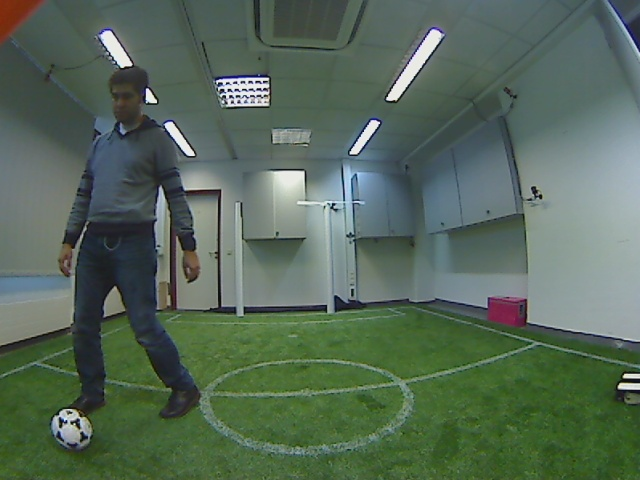ball: (47, 403, 99, 454)
